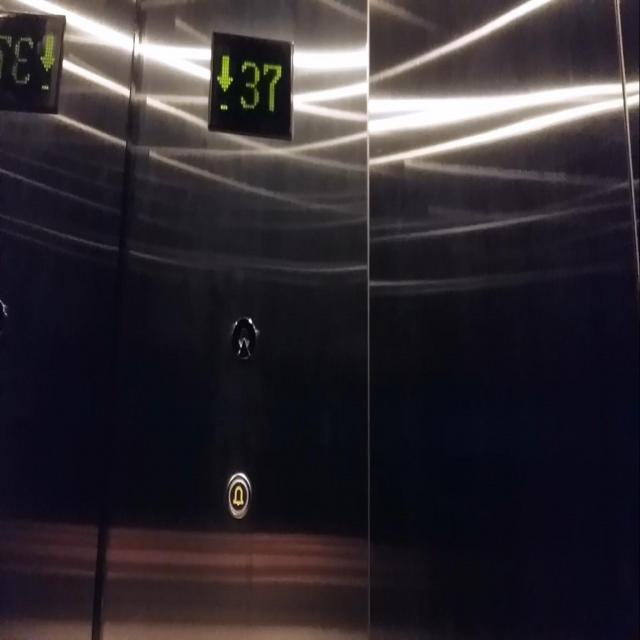alarm: (223, 465, 254, 523)
keyhole: (228, 312, 259, 368)
led: (203, 27, 299, 146)
